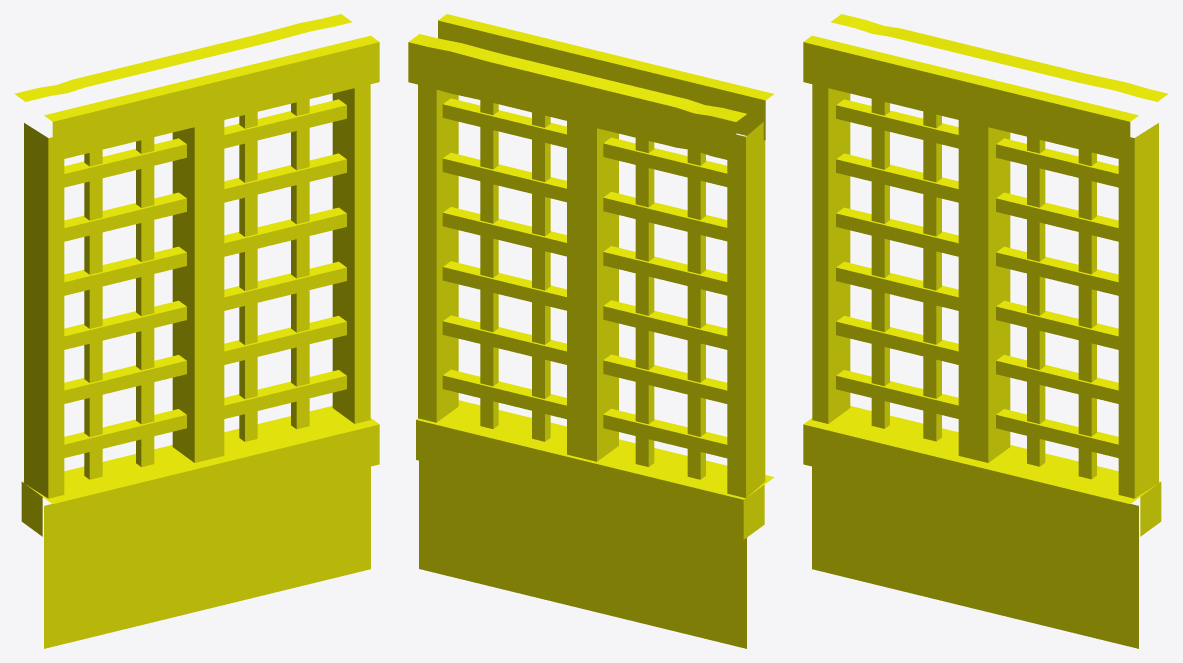
Rendered from Wall_Plaster_WoodGrid.glb.
3 renders of one model, left to right at view 1: azimuth 30°, elevation 25°; view 2: azimuth 150°, elevation 25°; view 3: azimuth 330°, elevation 25°, orthographic.
Parts seen in each view (by area): view 1: Wall_Plaster_WoodGrid; view 2: Wall_Plaster_WoodGrid; view 3: Wall_Plaster_WoodGrid.
Part boxes in pixels (bbox=[...]): Wall_Plaster_WoodGrid: bbox=[14, 14, 379, 648]; Wall_Plaster_WoodGrid: bbox=[408, 14, 774, 648]; Wall_Plaster_WoodGrid: bbox=[803, 14, 1168, 648].
Size of the model in its own units: 2 by 3.12 by 0.4065.
Materials: 2 (2 with a texture image).
